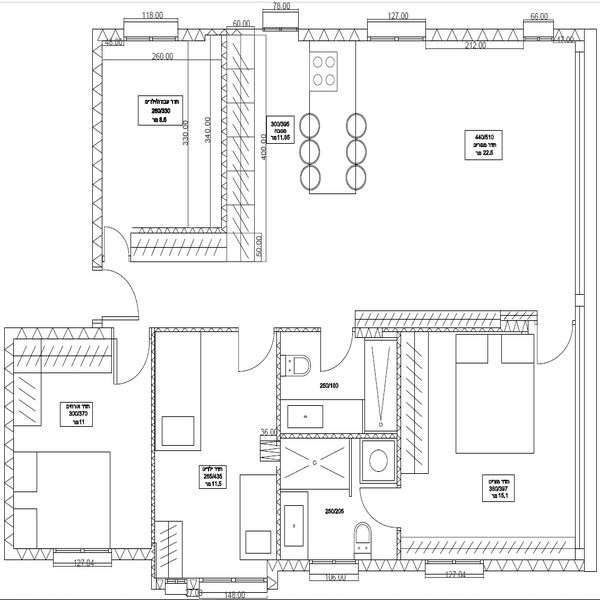door: (101, 316, 152, 386), (93, 263, 147, 328), (317, 321, 367, 382), (356, 480, 411, 534), (226, 320, 279, 375), (93, 216, 131, 267), (527, 322, 572, 365)
room: (239, 5, 587, 297), (398, 300, 586, 578), (78, 15, 274, 264), (1, 320, 160, 564), (139, 316, 276, 591), (271, 306, 404, 567)
wall: (87, 31, 107, 271), (146, 321, 162, 567), (5, 324, 19, 562), (488, 553, 588, 577), (427, 27, 529, 44), (185, 18, 259, 41), (296, 24, 368, 41)
window: (361, 14, 428, 45), (126, 15, 180, 44), (54, 541, 113, 565), (427, 557, 487, 576), (311, 559, 359, 580), (263, 8, 300, 34), (519, 17, 557, 40)
